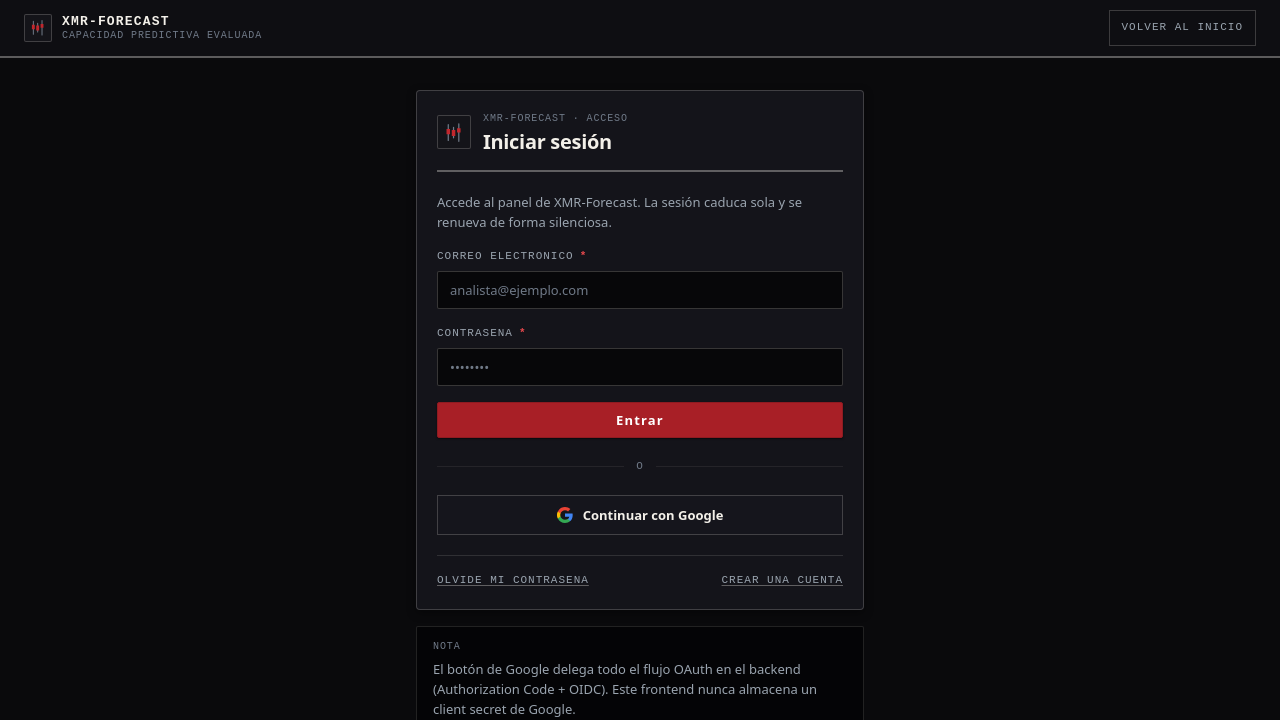
it: login flow › stores the session and lands on the dashboard
This screenshot has width=1280, height=720.
Type "ana@ejemplo.com" into the field labelled "Correo electronico *". click: (640, 290)
box: [437,271,843,309]
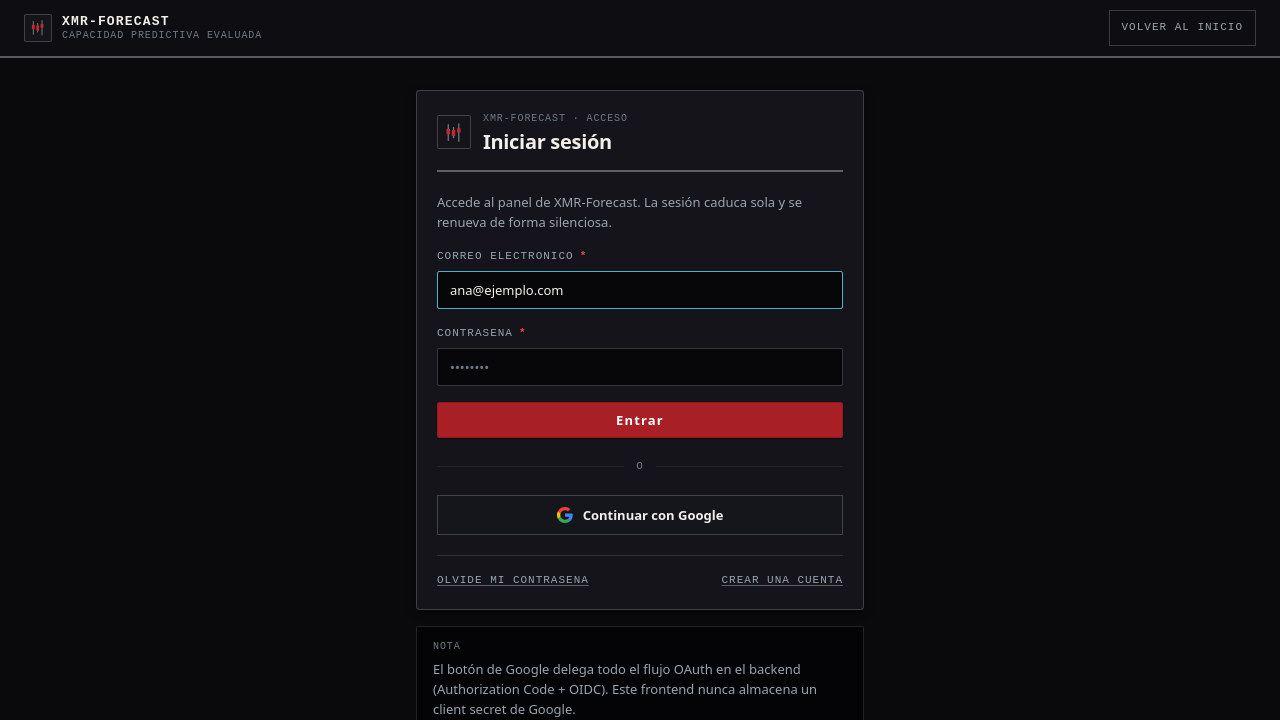
Type "contrasena-larga-1" into the password field labelled "Contrasena *". click: (640, 367)
box: [437,348,843,386]
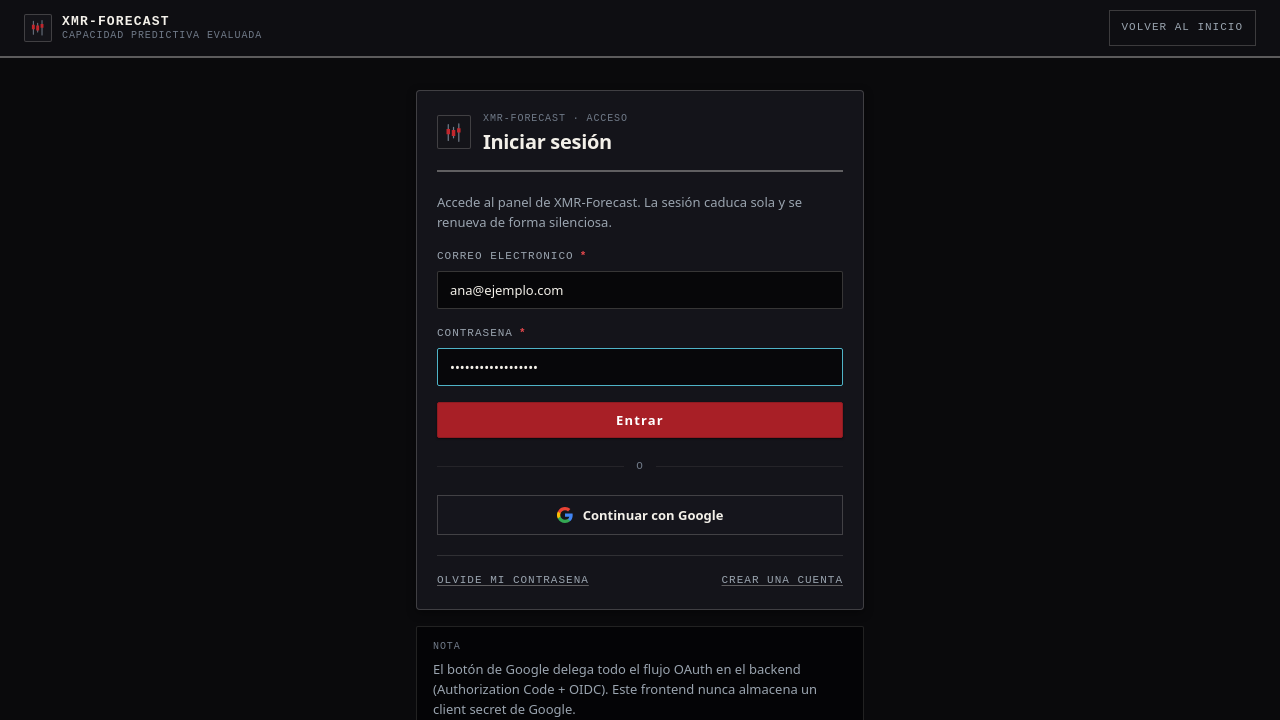
Click the button "Entrar". click: (640, 420)
box: [437,402,843,438]
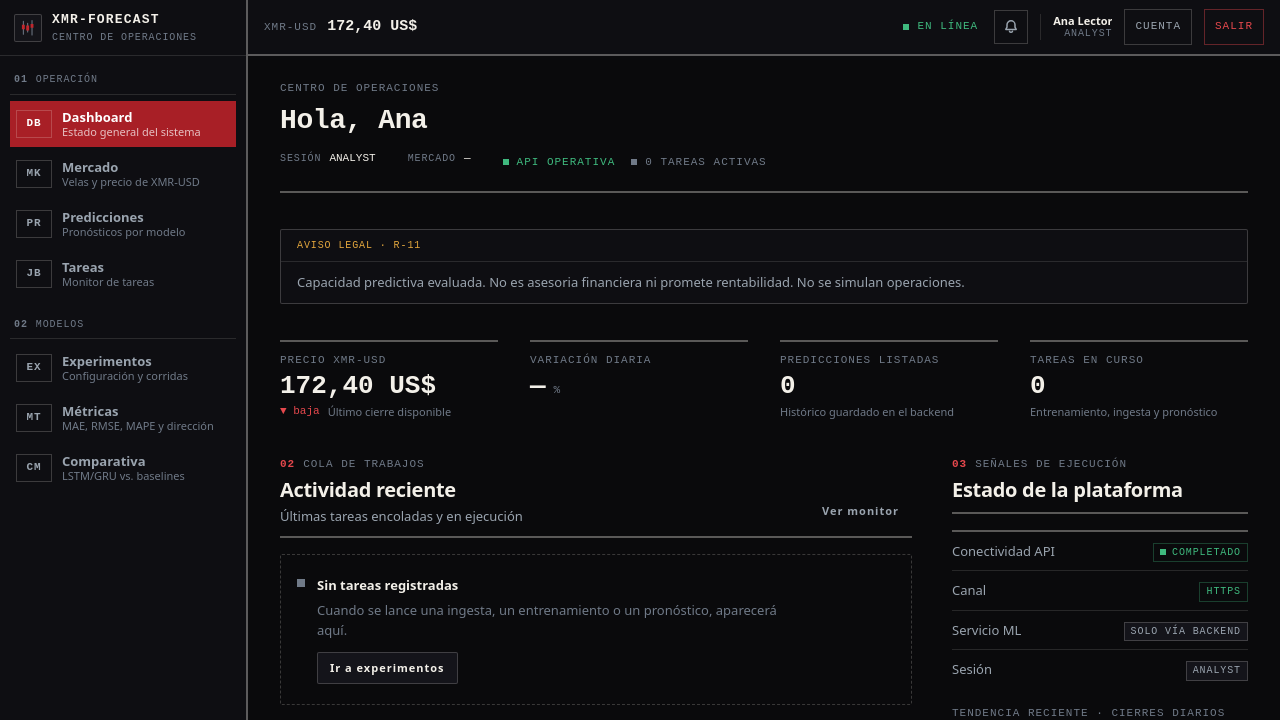
Expected: the 1st text "Centro de operaciones" is shown, [52,30,197,45]
